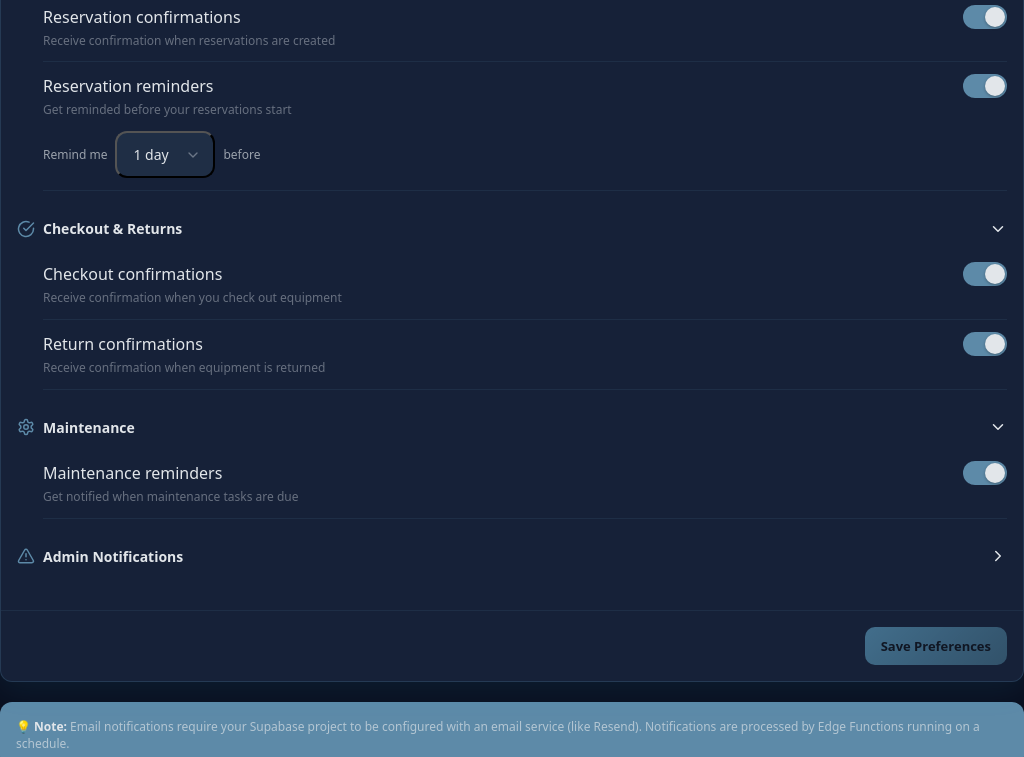
Test case: NotificationSettings › Admin Settings › should show admin options after expanding section
(page scrolled)
Click the button "Admin Notifications".
click(113, 556)  # box [17,535,1007,578]
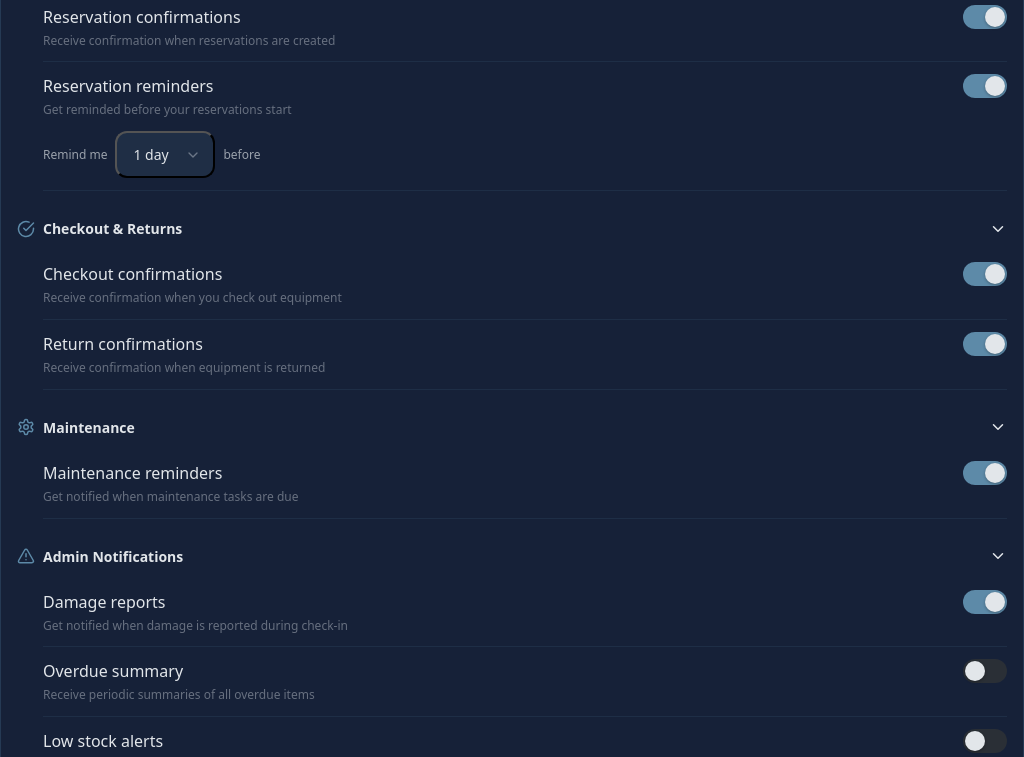
Result: the text "Damage reports" is shown at [43,591,166,613]
Result: the text "Overdue summary" is shown at [43,660,183,682]
Result: the text "Low stock alerts" is shown at [43,730,163,752]
